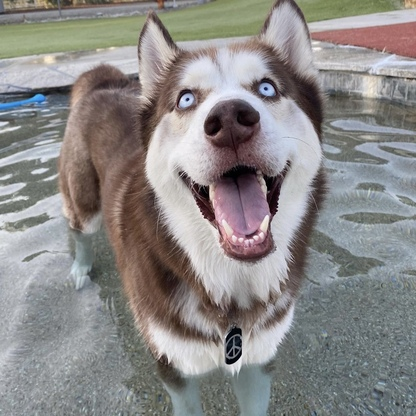husky: (50, 1, 332, 416)
